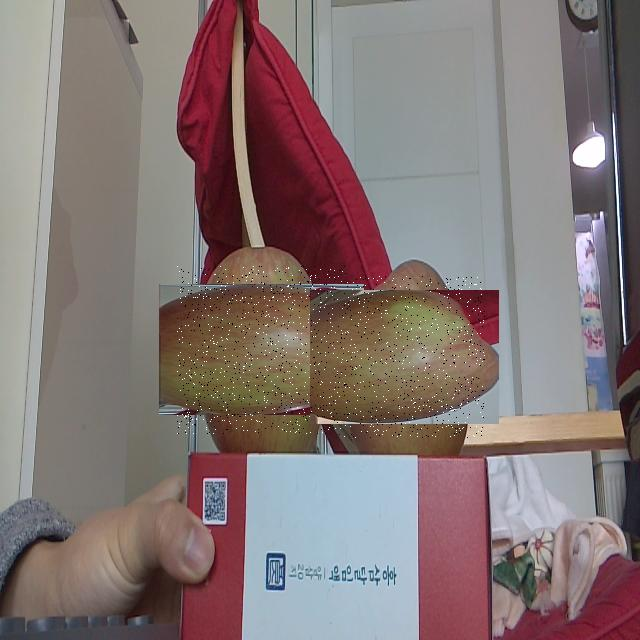apple: (177, 266, 346, 434), (323, 276, 485, 438)
